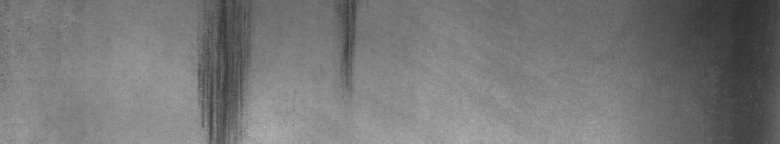ka: (192, 4, 248, 136)
